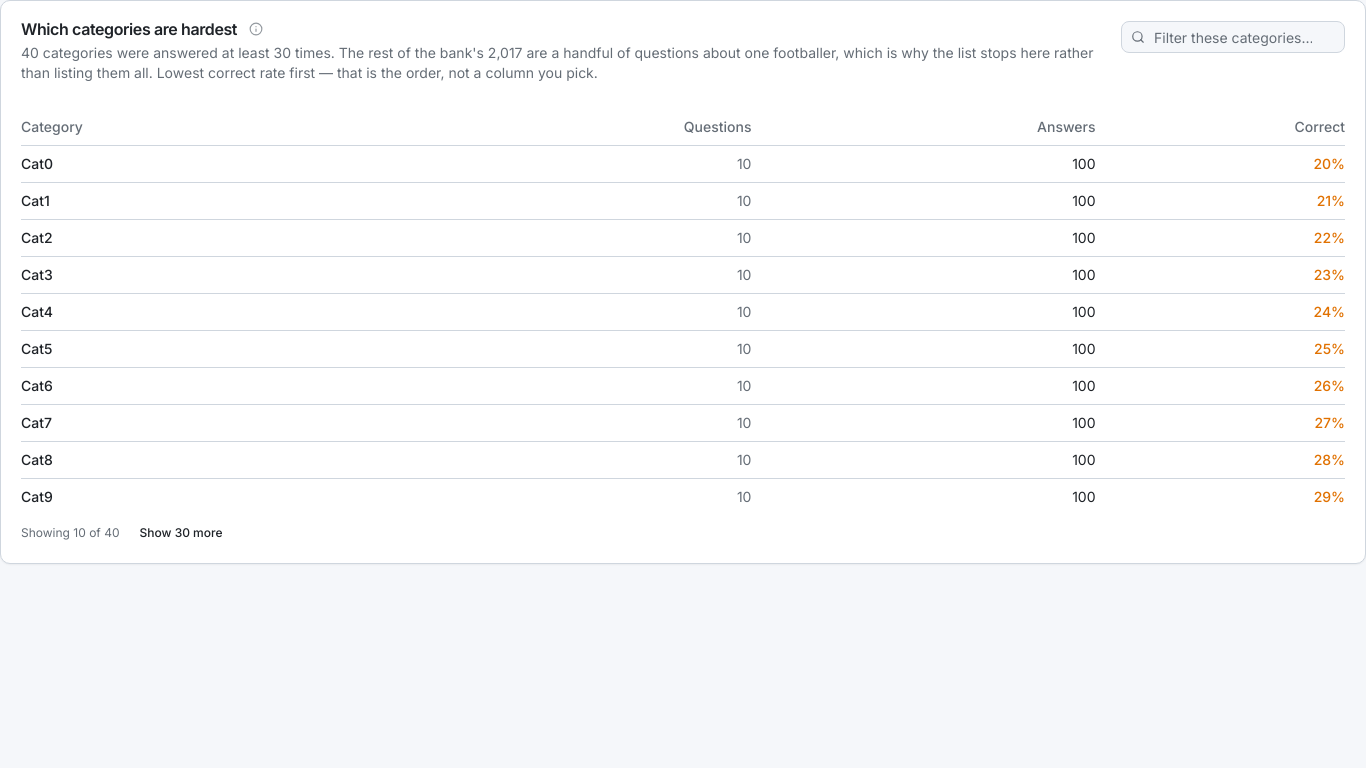
Test: categoryQuality › expands to the whole list
Click the button "Show 30 more": (181, 533) 132,523 -> 230,543
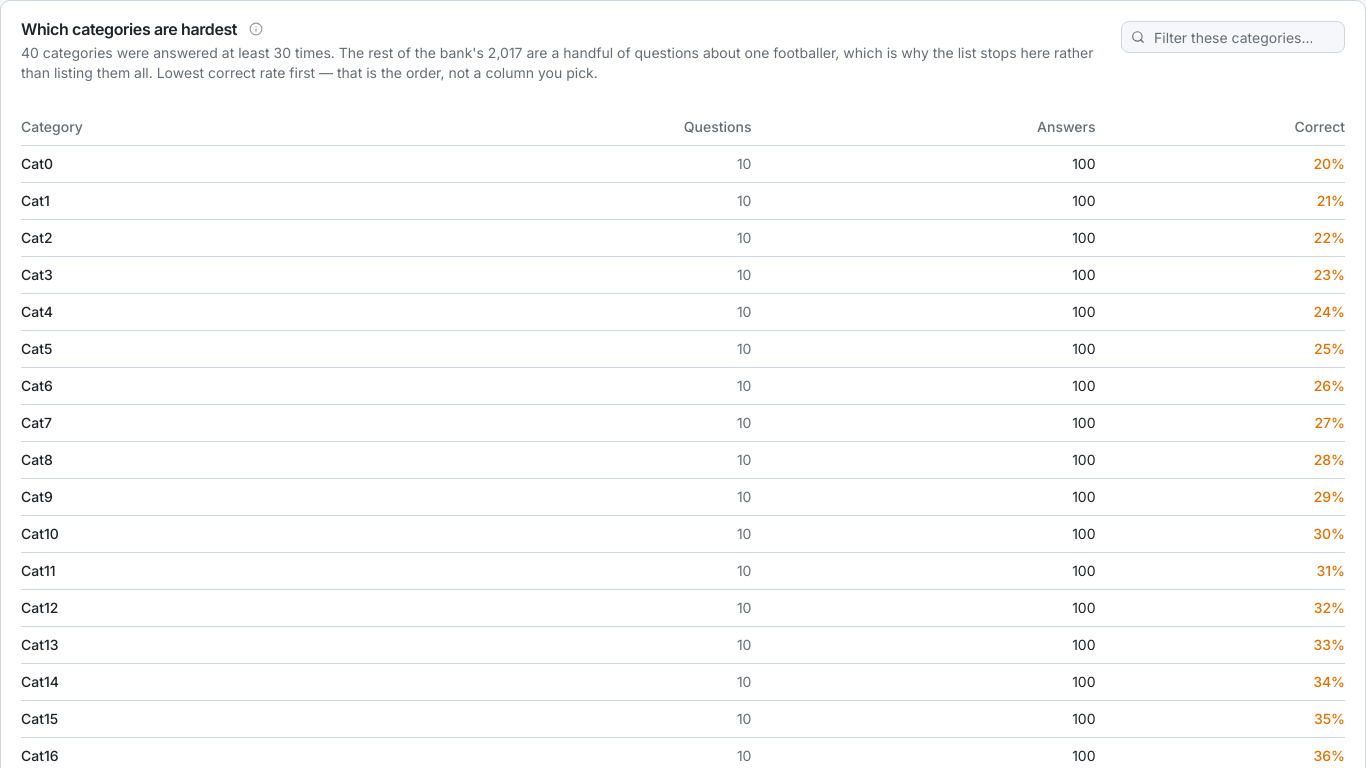
Expected: the text "Showing" is gone
